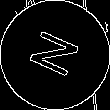N_SE: (24, 27, 86, 83)
